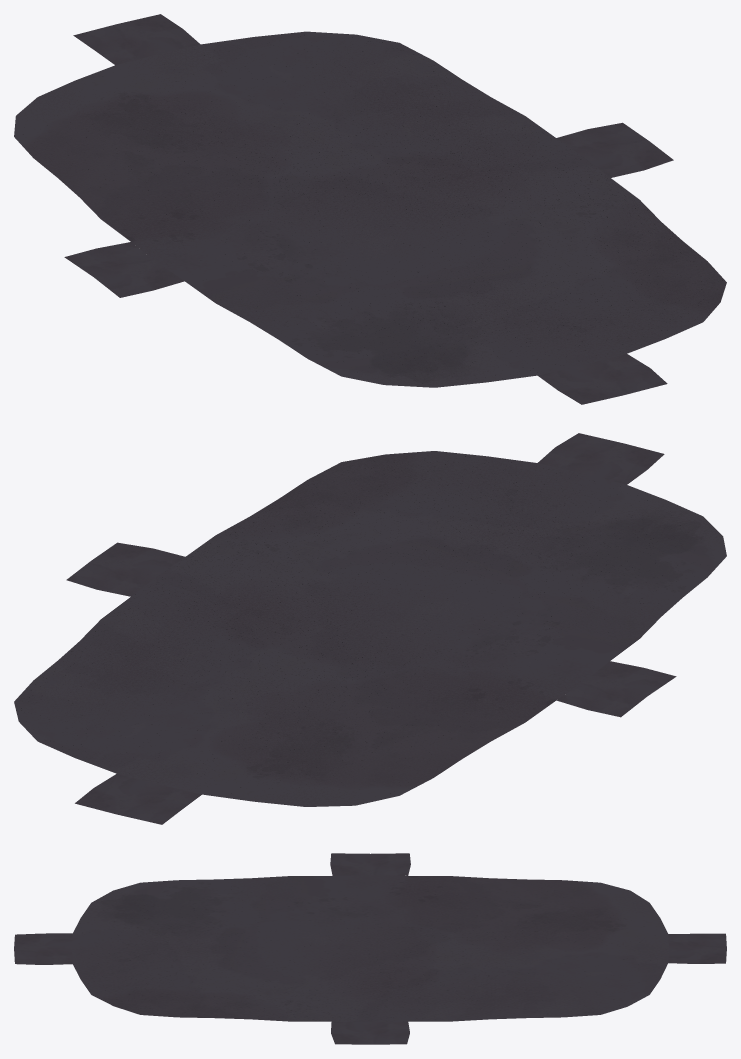
File: new_long_floor.fbx
3 views of the same model, one above another, from view 1: azimuth 30°, elevation 25°; view 2: azimuth 150°, elevation 25°; view 3: azimuth 270°, elevation 25° (orthographic). The views are drawn at different scales.
Visible parts, largest first — view 1: Long Ground, Long Ground.001, Long Ground.002, Long Ground.003, Long Ground.004; view 2: Long Ground, Long Ground.001, Long Ground.002, Long Ground.003, Long Ground.004; view 3: Long Ground, Long Ground.001, Long Ground.002, Long Ground.003, Long Ground.004.
Boxes of the visible parts, left/top/right/bottom form: Long Ground: left=14, top=31, right=726, bottom=387; Long Ground.001: left=538, top=354, right=667, bottom=404; Long Ground.002: left=64, top=242, right=184, bottom=297; Long Ground.003: left=73, top=14, right=200, bottom=65; Long Ground.004: left=556, top=122, right=673, bottom=177; Long Ground: left=14, top=451, right=726, bottom=806; Long Ground.001: left=538, top=433, right=664, bottom=484; Long Ground.002: left=556, top=661, right=676, bottom=717; Long Ground.003: left=75, top=774, right=201, bottom=824; Long Ground.004: left=66, top=542, right=185, bottom=596; Long Ground: left=71, top=875, right=669, bottom=1021; Long Ground.001: left=14, top=933, right=72, bottom=964; Long Ground.002: left=330, top=853, right=410, bottom=875; Long Ground.003: left=668, top=933, right=726, bottom=963; Long Ground.004: left=331, top=1021, right=409, bottom=1044.
Size of the model in its own units: 2121 by 0.000544 by 3340.
